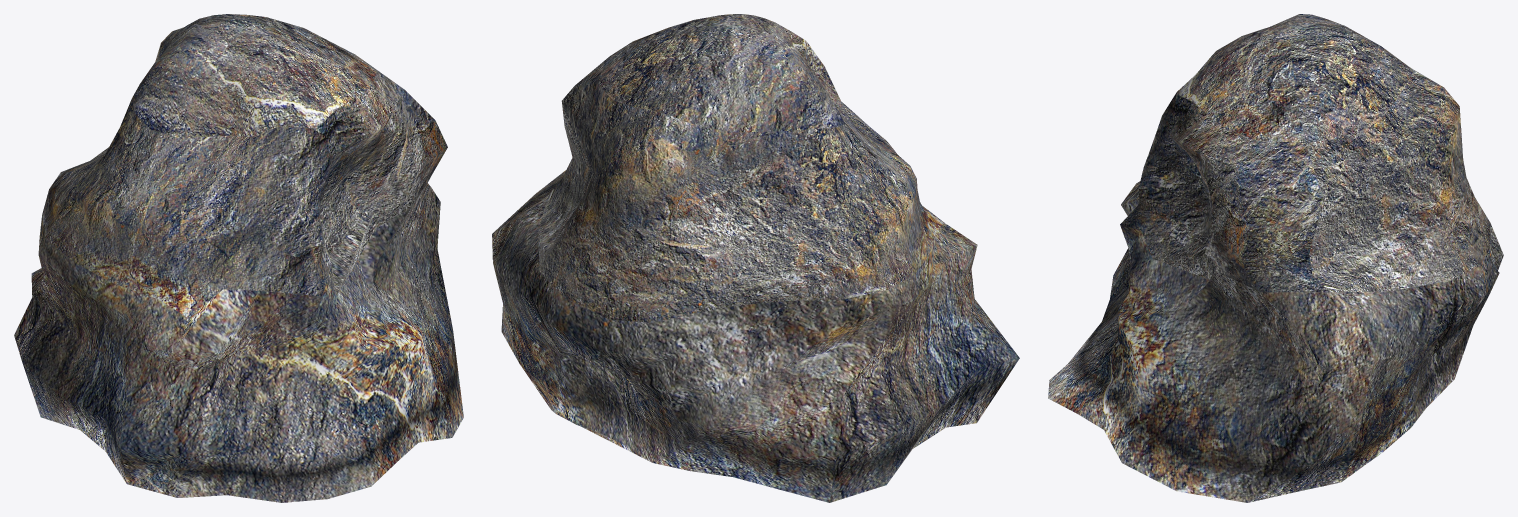
The model's file is obstacle.fbx.
3 renders of one model, left to right at view 1: azimuth 30°, elevation 25°; view 2: azimuth 150°, elevation 25°; view 3: azimuth 270°, elevation 25°, orthographic. The views are drawn at different scales.
Visible parts, largest first — view 1: rock_mesh; view 2: rock_mesh; view 3: rock_mesh.
Boxes of the visible parts, left/top/right/bottom form: rock_mesh: left=14, top=14, right=463, bottom=502; rock_mesh: left=492, top=14, right=1019, bottom=502; rock_mesh: left=1048, top=14, right=1503, bottom=502.
Bounding box in the file's own units: 24.69 × 22.6 × 23.9.
